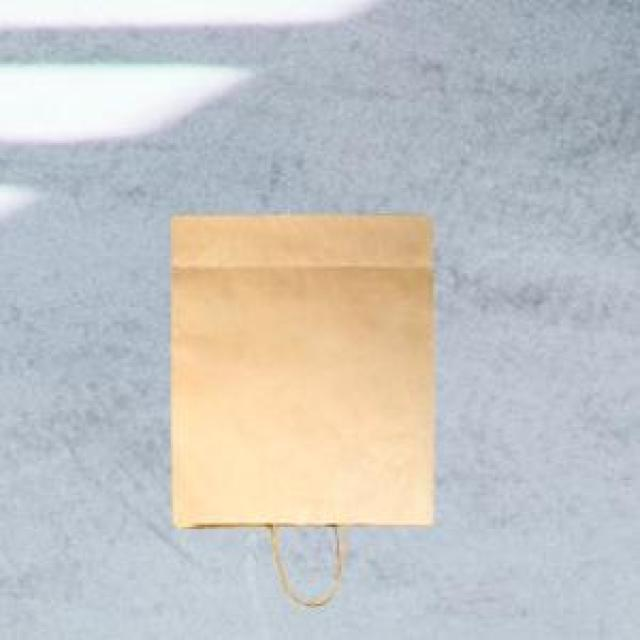paper: (169, 211, 429, 602)
